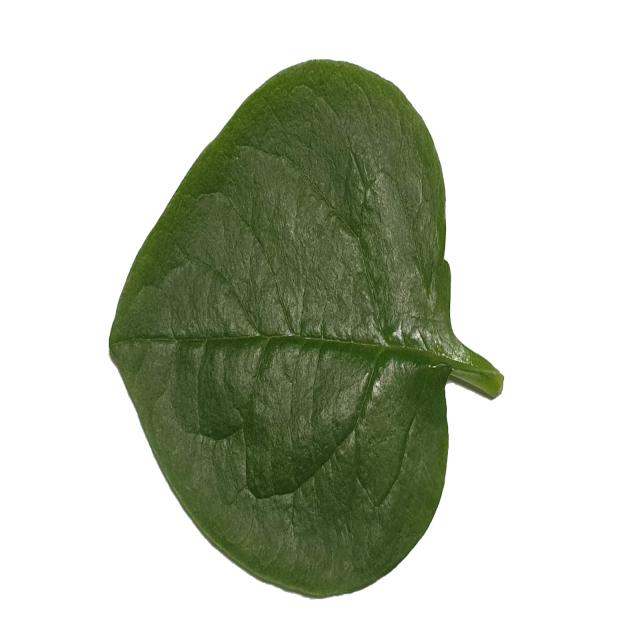Medicinal-Basale: (107, 54, 505, 600)
